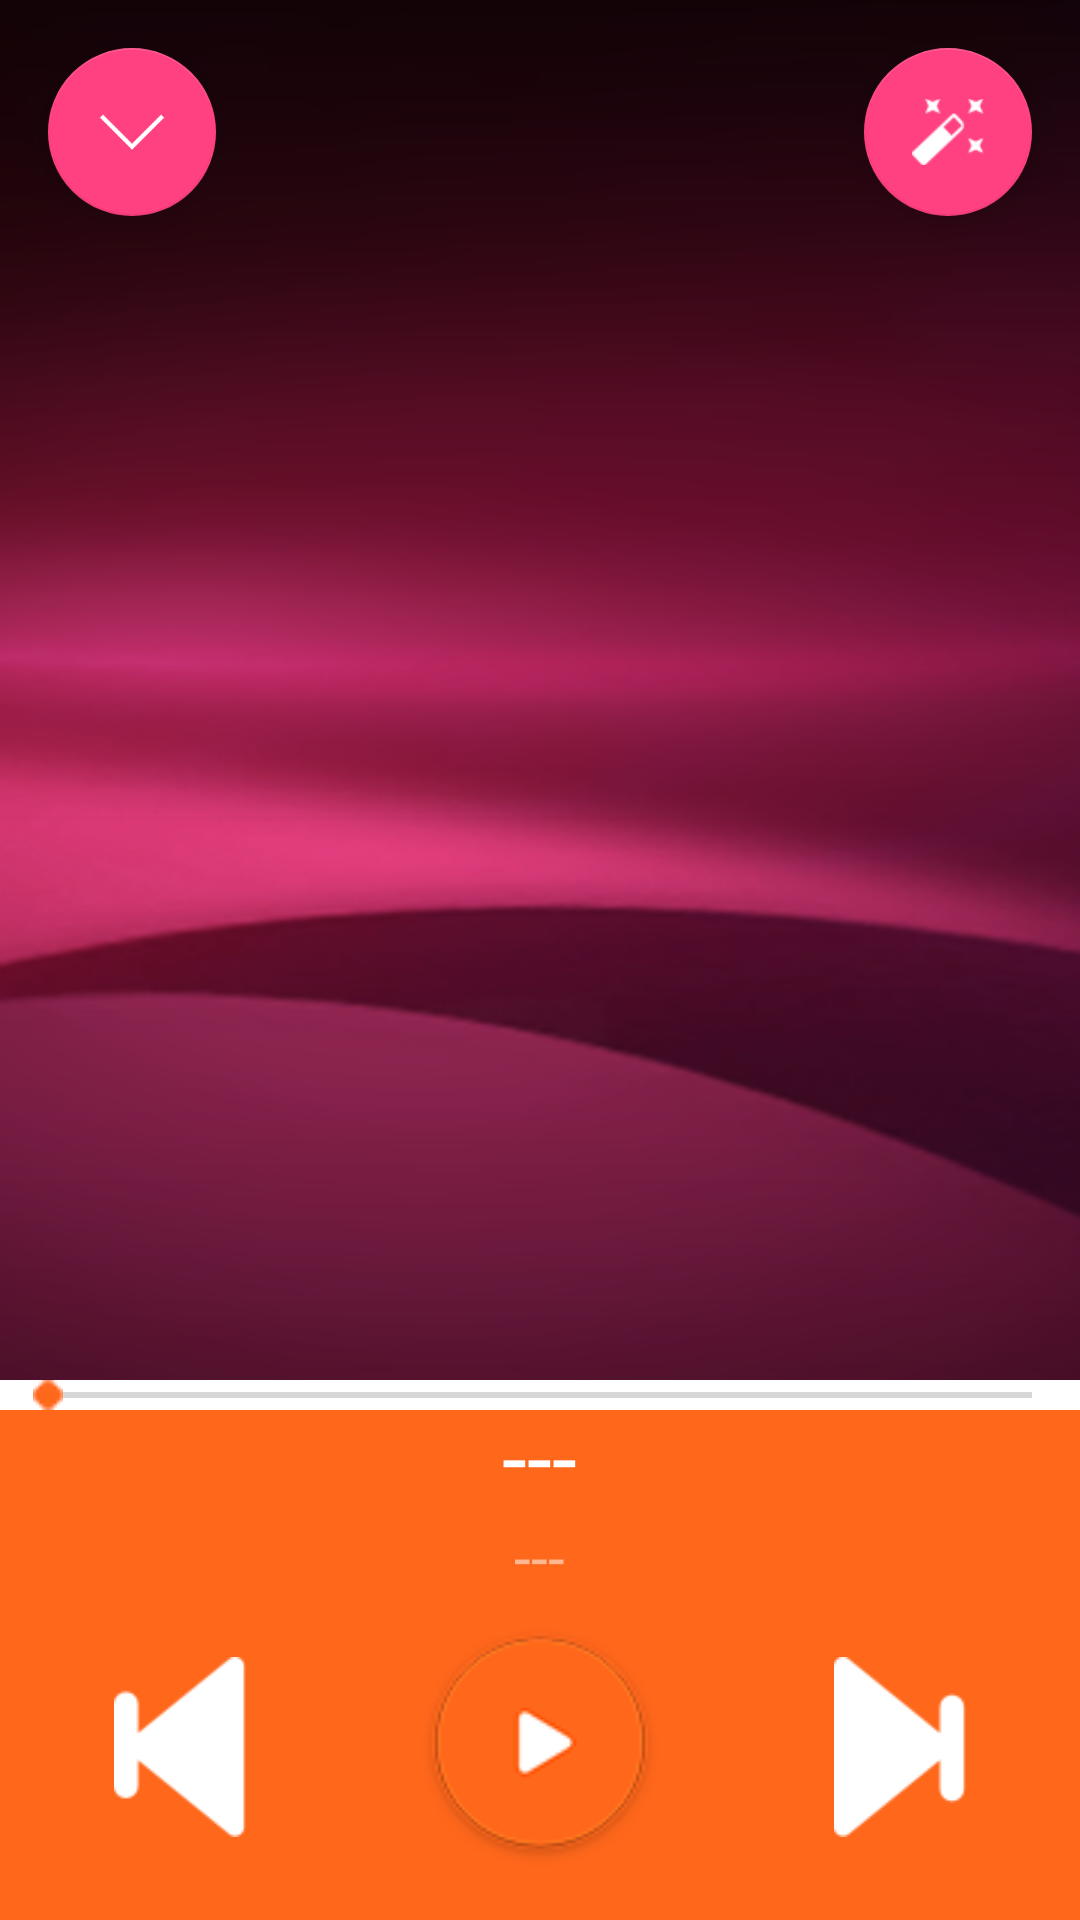

Where to tap for icons on this 1080 × 1920 app screen, as (x=x, y=y):
back down: (x=132, y=132)
next: (x=900, y=1747)
previous: (x=180, y=1747)
